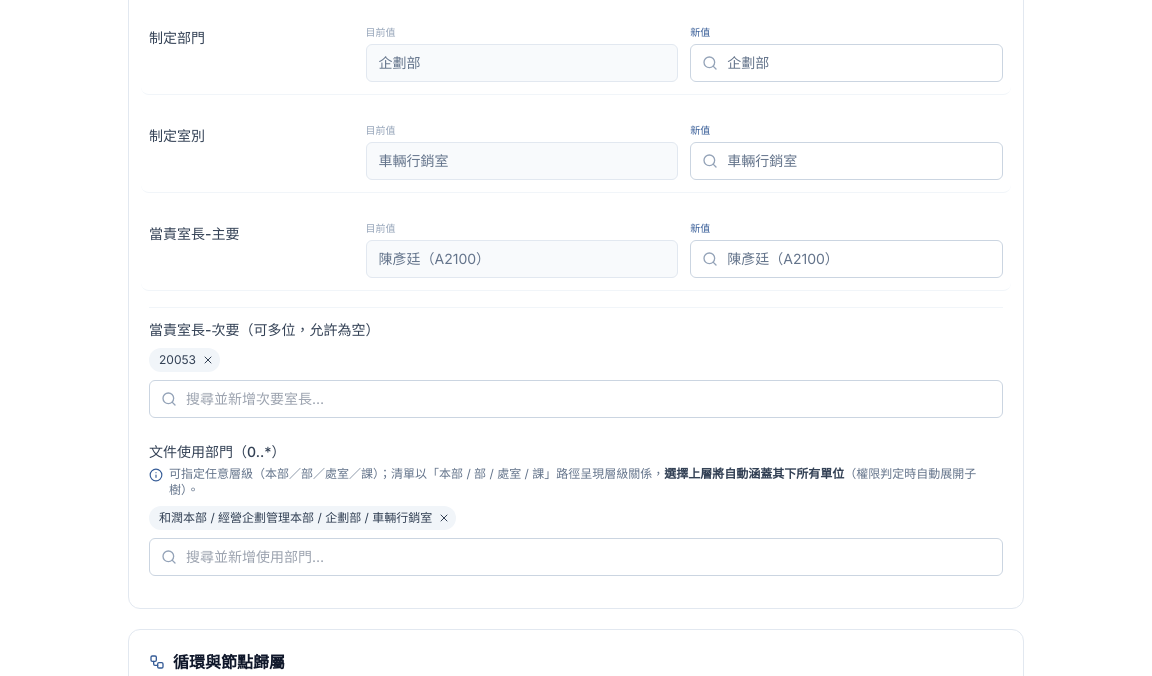
Test case: DocumentEditPage — F011 編輯與版本對照（移植 prototype 15） › F014 次要室長／使用部門可編輯（prototype 15 secChips/useChips） › TS-D-006 後端回 FIELD_WRITE_FORBIDDEN → 顯示既有錯誤訊息映射「無權修改此欄位」
(page scrolled)
Click the button named "移除 20053": (208, 360) [200,352,216,368]
(page scrolled)
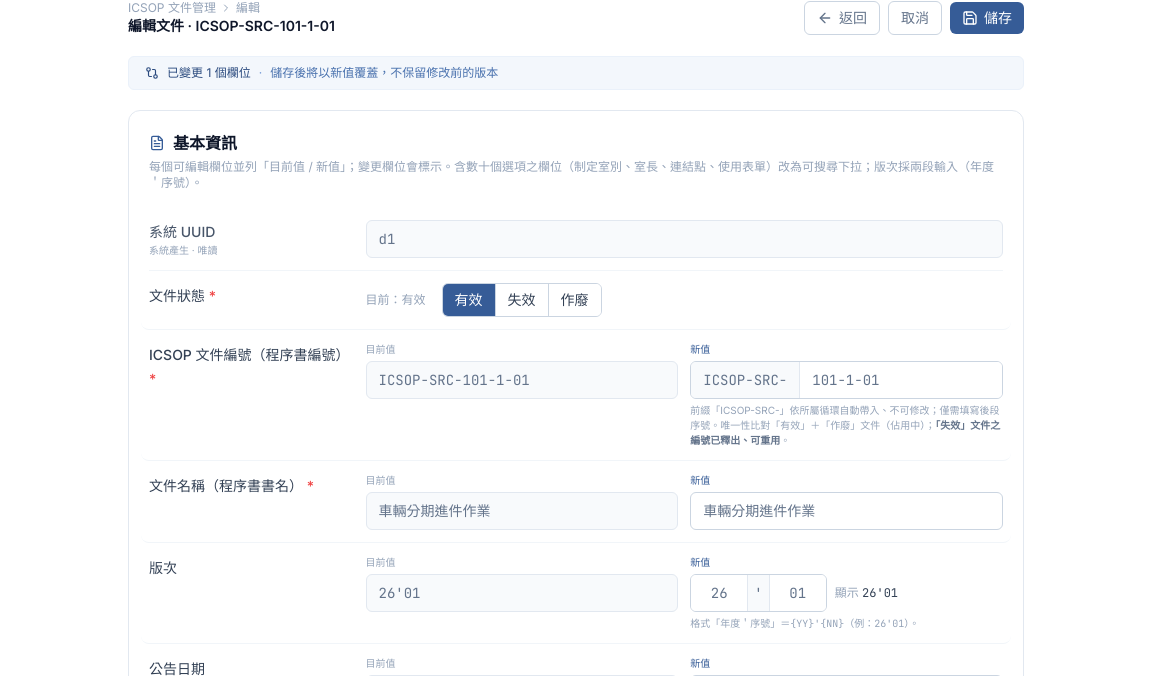
Click the button "儲存": (987, 18) [950,2,1024,34]
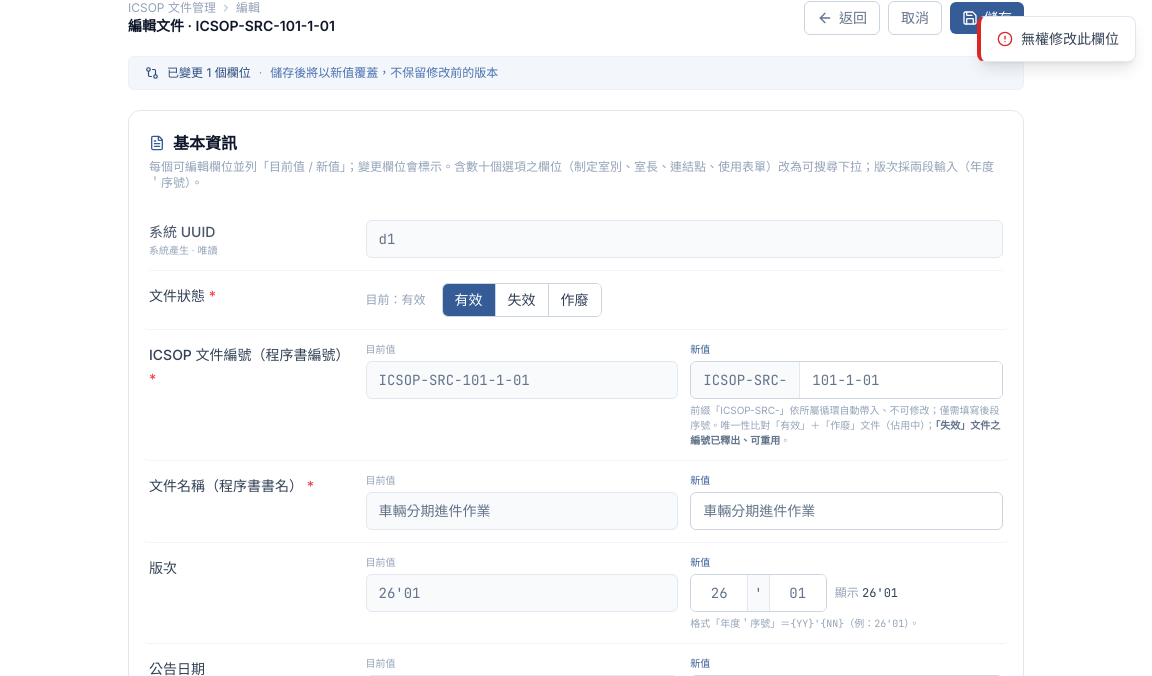
Expected: the text "無權修改此欄位" is shown, [1021,29,1119,49]
